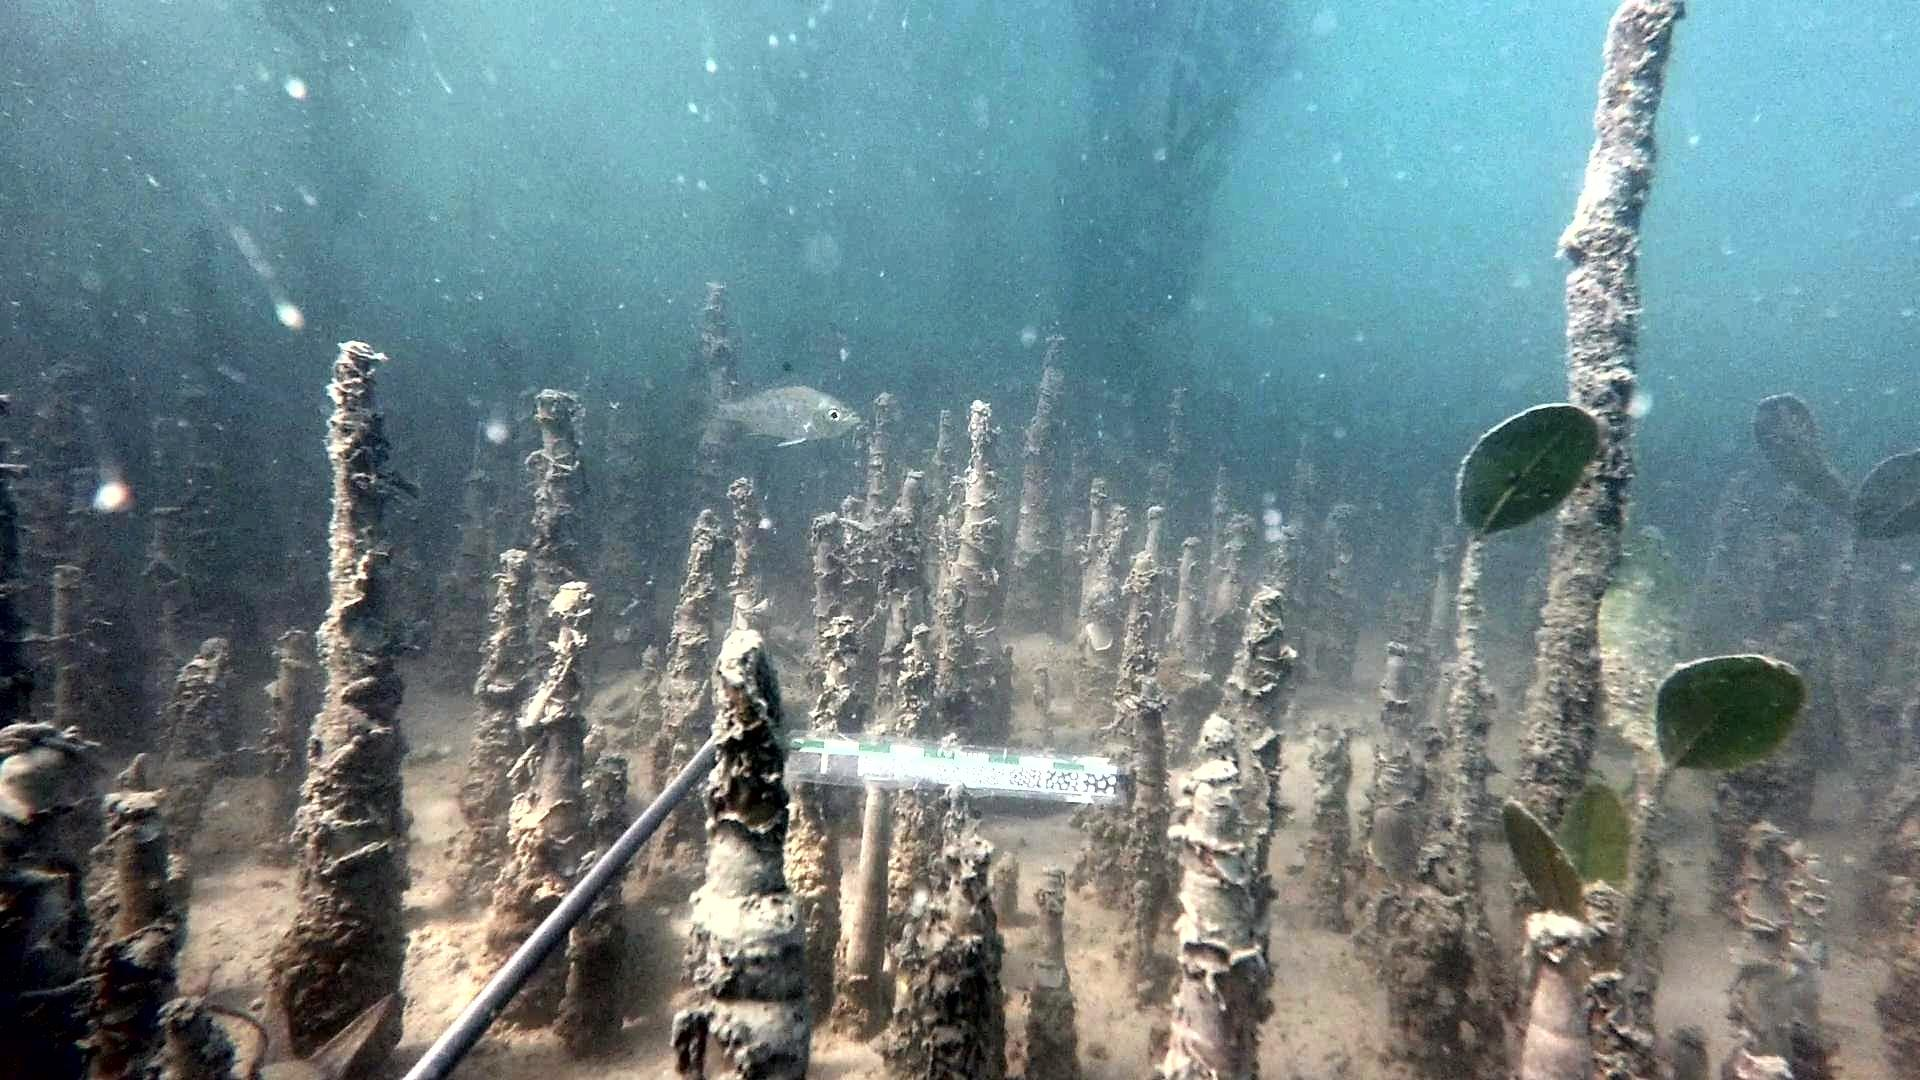gerres: (683, 359, 864, 448)
